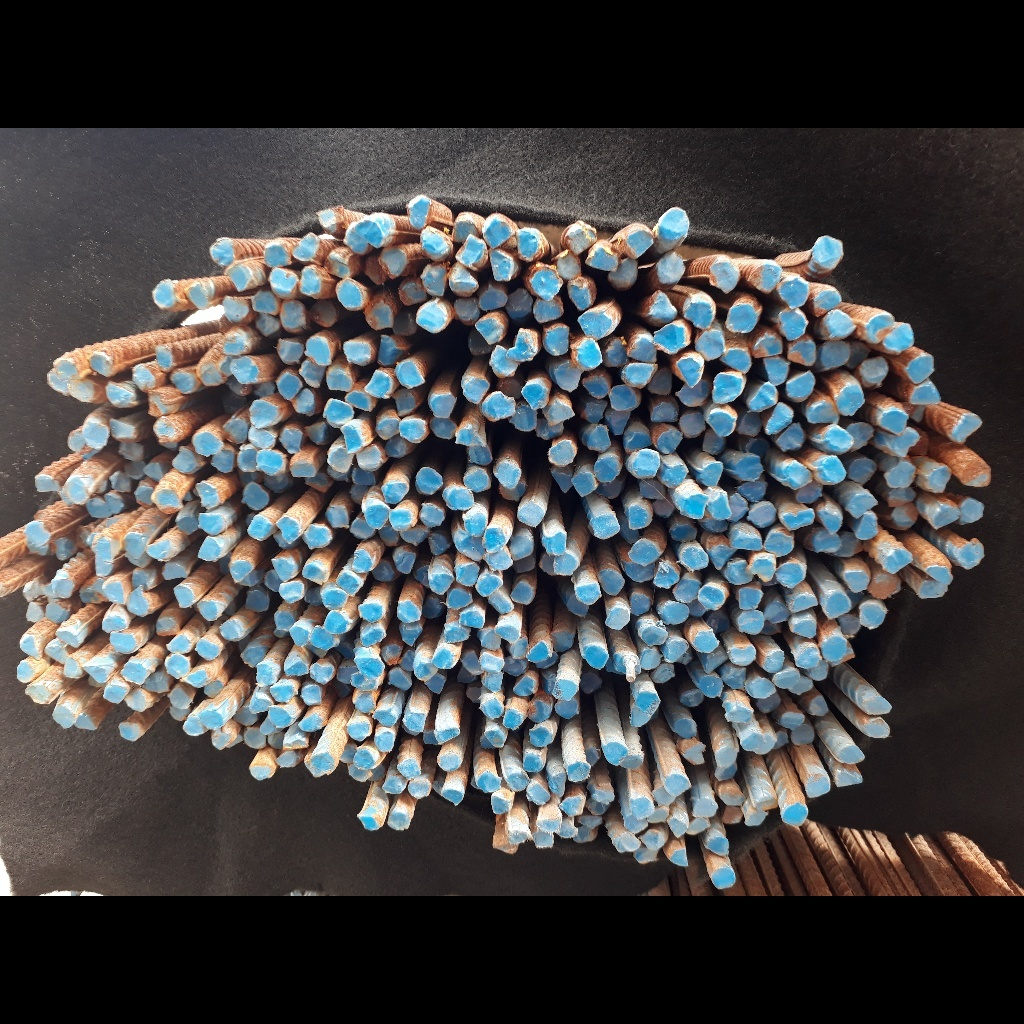dipstick: (455, 233, 488, 271), (657, 206, 690, 242), (47, 360, 80, 394), (335, 275, 365, 312), (529, 266, 562, 299), (420, 228, 452, 262), (762, 402, 795, 434), (813, 234, 844, 268), (656, 250, 686, 285), (480, 391, 515, 421), (819, 339, 852, 370), (652, 324, 685, 355), (448, 265, 479, 298), (711, 375, 745, 405), (577, 309, 612, 338), (609, 257, 638, 291), (507, 329, 536, 363), (379, 246, 408, 280), (728, 523, 763, 551), (483, 217, 513, 249), (627, 539, 661, 567), (694, 331, 725, 361), (567, 278, 597, 309), (268, 266, 298, 297), (883, 323, 915, 352), (779, 277, 808, 309), (725, 304, 757, 333), (710, 262, 739, 294), (487, 344, 516, 376), (460, 373, 489, 405), (172, 447, 206, 474), (416, 303, 446, 333), (363, 300, 393, 330), (778, 309, 807, 340), (750, 265, 781, 294), (748, 382, 779, 411), (866, 312, 894, 344), (957, 539, 985, 571), (575, 338, 603, 370), (248, 401, 280, 429), (420, 265, 447, 298), (621, 363, 656, 388), (905, 354, 934, 384), (953, 413, 982, 443), (891, 428, 920, 458), (825, 309, 855, 338), (628, 334, 657, 364), (683, 302, 714, 330), (649, 291, 677, 322), (631, 449, 659, 480), (720, 347, 752, 374), (541, 399, 575, 424), (406, 195, 431, 229), (354, 220, 383, 249), (304, 337, 333, 366), (848, 457, 878, 485), (510, 402, 538, 432), (309, 298, 337, 328), (884, 461, 915, 488), (556, 361, 583, 392), (478, 284, 509, 311), (323, 398, 354, 425), (125, 585, 152, 616), (532, 298, 564, 324), (507, 288, 533, 320), (676, 381, 709, 406), (586, 247, 619, 272), (546, 323, 571, 356), (860, 356, 889, 384), (845, 422, 873, 451), (675, 358, 704, 386), (521, 380, 549, 409), (415, 467, 443, 496), (837, 385, 864, 415), (707, 409, 737, 436), (566, 223, 596, 250), (153, 417, 183, 444), (883, 548, 914, 574), (302, 524, 333, 550), (376, 333, 401, 365), (281, 300, 306, 332), (925, 558, 953, 586), (610, 384, 638, 412), (493, 461, 521, 489), (230, 357, 258, 385), (23, 518, 51, 546), (788, 340, 817, 367), (778, 422, 805, 451), (680, 492, 709, 519), (315, 206, 344, 233), (81, 421, 108, 450), (454, 295, 480, 325), (289, 387, 315, 417), (747, 503, 778, 528), (708, 491, 733, 522), (210, 236, 235, 267), (517, 227, 541, 259), (489, 249, 513, 281), (846, 494, 879, 517), (963, 460, 991, 487), (746, 557, 774, 584), (662, 635, 689, 663), (726, 559, 753, 587), (709, 543, 737, 570), (460, 535, 488, 562), (325, 251, 353, 278), (328, 446, 356, 473), (859, 602, 885, 631), (786, 370, 815, 396), (765, 531, 794, 557), (679, 409, 705, 438), (603, 338, 629, 367), (581, 376, 610, 402), (275, 515, 301, 544), (443, 485, 473, 510), (779, 507, 813, 529), (869, 574, 900, 598), (455, 425, 486, 449), (152, 490, 183, 514), (624, 561, 656, 584), (299, 264, 322, 296), (736, 608, 763, 635), (398, 361, 425, 388), (241, 483, 268, 510), (821, 635, 847, 663), (827, 425, 853, 453), (390, 388, 416, 416), (365, 370, 391, 398), (293, 232, 319, 260), (283, 722, 309, 750), (256, 450, 284, 476), (648, 368, 673, 397), (550, 468, 575, 497), (517, 502, 546, 527), (556, 251, 581, 280), (310, 625, 339, 650), (299, 359, 324, 388), (193, 432, 222, 457), (196, 480, 221, 509), (879, 410, 909, 434), (637, 478, 667, 502), (545, 441, 575, 465), (534, 418, 566, 440), (814, 528, 841, 554), (681, 546, 707, 573), (277, 338, 304, 364), (276, 372, 302, 399), (164, 653, 191, 679), (776, 562, 804, 587), (821, 457, 846, 485), (552, 551, 580, 576), (428, 415, 456, 440), (343, 340, 371, 365), (248, 425, 276, 450), (227, 263, 252, 291), (960, 496, 984, 525), (855, 512, 879, 541), (863, 693, 892, 717), (763, 356, 787, 385), (624, 230, 653, 254), (344, 225, 368, 254), (65, 476, 89, 505), (910, 383, 940, 406), (650, 402, 680, 425), (152, 280, 175, 310), (892, 503, 918, 529), (652, 563, 678, 589), (223, 297, 249, 323), (825, 592, 852, 617), (697, 461, 724, 486), (657, 428, 684, 453), (587, 426, 612, 453), (392, 309, 417, 336), (399, 419, 426, 444), (356, 444, 381, 471), (52, 705, 79, 730), (793, 482, 825, 503), (736, 456, 764, 480), (594, 457, 618, 485), (341, 424, 364, 453), (107, 417, 136, 440), (140, 671, 169, 694), (590, 517, 620, 539), (483, 548, 513, 570), (464, 507, 486, 537), (659, 603, 690, 624), (738, 481, 769, 502), (928, 467, 953, 493), (698, 585, 724, 610), (736, 412, 762, 437), (381, 479, 407, 504), (370, 558, 396, 583), (335, 571, 361, 596), (246, 515, 272, 540), (121, 660, 147, 685), (816, 288, 840, 315), (788, 461, 812, 488), (552, 678, 579, 702), (476, 770, 503, 794), (452, 219, 479, 243), (469, 328, 493, 355), (463, 468, 490, 492), (428, 571, 455, 595), (399, 282, 426, 306), (132, 365, 156, 392), (754, 334, 782, 357), (719, 665, 747, 688), (270, 558, 298, 581), (237, 444, 260, 472), (197, 512, 225, 535), (66, 378, 94, 401), (605, 409, 630, 434), (455, 562, 480, 587), (396, 599, 421, 624), (682, 739, 706, 765), (584, 645, 610, 669), (598, 571, 624, 595), (559, 794, 585, 818), (554, 697, 580, 721), (364, 505, 390, 529), (310, 752, 334, 778), (280, 428, 304, 454), (253, 290, 279, 314), (105, 383, 131, 407), (625, 506, 652, 529), (512, 580, 535, 607), (185, 282, 208, 309), (917, 579, 948, 599), (931, 506, 959, 528), (447, 587, 475, 609), (147, 389, 169, 417), (354, 656, 383, 677), (264, 473, 293, 494), (885, 488, 915, 508), (834, 532, 858, 557), (797, 646, 822, 670), (571, 473, 596, 497), (490, 837, 520, 857), (508, 533, 533, 557), (420, 503, 444, 528), (326, 504, 350, 529), (170, 370, 195, 394), (54, 537, 79, 561), (665, 773, 691, 796), (663, 465, 689, 488), (542, 532, 568, 555), (550, 630, 576, 653), (413, 658, 439, 681), (327, 367, 353, 390), (278, 580, 304, 603), (808, 402, 835, 424), (345, 391, 372, 413), (164, 633, 191, 655), (366, 255, 385, 286), (728, 645, 756, 666), (474, 576, 503, 596), (498, 480, 527, 500), (806, 774, 830, 798), (305, 423, 329, 447), (197, 361, 221, 385), (197, 538, 221, 562), (844, 568, 869, 591), (737, 587, 762, 610), (699, 675, 724, 698), (583, 400, 606, 425), (487, 588, 510, 613), (389, 508, 414, 531), (309, 661, 334, 684), (122, 533, 145, 558), (123, 689, 148, 712), (793, 618, 819, 640), (701, 431, 727, 453), (349, 517, 375, 539), (526, 702, 553, 723), (269, 682, 296, 703), (672, 580, 700, 600), (478, 651, 506, 671), (306, 472, 334, 492), (711, 866, 735, 889), (628, 592, 652, 615), (653, 497, 676, 521), (423, 671, 446, 695), (432, 395, 456, 418), (264, 243, 288, 266), (229, 560, 252, 584), (88, 353, 112, 376), (95, 538, 119, 561), (605, 607, 630, 629), (505, 770, 530, 792), (323, 612, 348, 634), (301, 563, 326, 585), (223, 421, 248, 443), (211, 447, 233, 472), (244, 591, 269, 613), (782, 804, 808, 825), (820, 507, 841, 533), (706, 611, 732, 632), (602, 743, 628, 764), (574, 581, 600, 602), (502, 656, 528, 677), (357, 601, 383, 622), (145, 539, 171, 560), (762, 603, 789, 623), (691, 798, 718, 818), (726, 495, 746, 522), (400, 527, 427, 547), (321, 588, 348, 608), (427, 532, 450, 555), (526, 640, 550, 662), (499, 378, 523, 400), (435, 723, 459, 745), (408, 777, 432, 799), (396, 551, 418, 575), (388, 669, 412, 691), (376, 417, 400, 439), (248, 691, 272, 713), (254, 663, 276, 687), (256, 314, 280, 336), (101, 581, 123, 605), (773, 668, 798, 689), (652, 785, 677, 806), (461, 650, 482, 675), (396, 758, 421, 779), (352, 548, 373, 573), (19, 635, 40, 660), (755, 694, 781, 714), (749, 678, 775, 698), (110, 632, 136, 652), (792, 593, 819, 612), (670, 524, 697, 543), (625, 432, 652, 451), (155, 345, 174, 372), (118, 442, 145, 461), (80, 665, 107, 684), (637, 693, 660, 715), (469, 444, 492, 466), (420, 596, 442, 619), (402, 710, 425, 732), (838, 614, 862, 635), (640, 829, 664, 850), (616, 655, 640, 676), (567, 762, 591, 783), (512, 675, 536, 696), (460, 608, 484, 629), (386, 811, 410, 832), (381, 641, 402, 665), (346, 721, 370, 742), (194, 639, 218, 660), (143, 462, 171, 480), (169, 686, 193, 707), (51, 577, 75, 598), (866, 718, 891, 738), (615, 831, 640, 851), (650, 663, 675, 683), (553, 817, 578, 837), (527, 784, 552, 804), (240, 648, 265, 668), (233, 706, 258, 726), (102, 683, 127, 703), (85, 497, 110, 517), (839, 745, 865, 764), (671, 718, 697, 737), (685, 816, 711, 835), (633, 846, 659, 865), (249, 761, 275, 780), (79, 585, 105, 604), (708, 835, 730, 857), (522, 751, 544, 773), (431, 647, 453, 669), (300, 684, 322, 706), (172, 586, 194, 608), (808, 694, 829, 717), (598, 480, 621, 501), (502, 709, 525, 730), (480, 670, 503, 691), (484, 528, 505, 551), (268, 706, 291, 727), (244, 728, 267, 749), (108, 471, 131, 492), (45, 602, 68, 623), (496, 622, 520, 642), (744, 437, 769, 456), (573, 825, 598, 844), (361, 627, 386, 646), (371, 709, 396, 728), (348, 764, 373, 783), (155, 617, 180, 636), (789, 726, 815, 744), (351, 672, 377, 690), (34, 475, 60, 493), (54, 630, 80, 648), (24, 685, 50, 703), (806, 660, 827, 682), (763, 651, 785, 672), (640, 650, 661, 672), (582, 673, 603, 695), (505, 822, 527, 843), (480, 628, 501, 650), (401, 626, 423, 647), (274, 610, 295, 632), (299, 712, 322, 732), (117, 722, 140, 742), (100, 616, 127, 633), (680, 688, 704, 707), (629, 797, 653, 816), (529, 727, 553, 746), (491, 792, 510, 816), (437, 752, 461, 771), (383, 439, 407, 458), (200, 709, 224, 728), (211, 731, 235, 750), (63, 655, 82, 679), (44, 645, 68, 664), (779, 711, 804, 729), (642, 626, 667, 644), (549, 772, 567, 797), (445, 626, 470, 644), (352, 467, 377, 485), (183, 717, 208, 735), (162, 562, 187, 580), (482, 699, 503, 720), (354, 692, 375, 713), (742, 731, 764, 751), (16, 661, 36, 683), (668, 815, 687, 838), (134, 485, 153, 508), (22, 581, 45, 600), (720, 786, 744, 804), (591, 787, 615, 805), (535, 814, 559, 832), (289, 461, 316, 477), (727, 706, 752, 723), (228, 378, 253, 395), (576, 814, 604, 829), (382, 775, 403, 795), (353, 749, 374, 769), (289, 626, 309, 647), (441, 787, 463, 806), (375, 730, 394, 752), (336, 665, 358, 684), (196, 601, 218, 620), (131, 569, 150, 591), (67, 430, 86, 452), (628, 707, 651, 725), (252, 380, 275, 398), (176, 516, 199, 534), (531, 832, 555, 849), (837, 771, 862, 787), (789, 679, 814, 695), (103, 493, 123, 513), (260, 715, 281, 734), (715, 747, 738, 764), (357, 814, 380, 831), (276, 751, 299, 768), (755, 734, 774, 754), (266, 570, 285, 590), (753, 796, 780, 810), (339, 743, 357, 764), (304, 586, 322, 607), (219, 623, 240, 641), (124, 462, 145, 480), (26, 602, 44, 623), (625, 814, 647, 831), (536, 652, 558, 669), (704, 517, 727, 533), (414, 565, 430, 588), (184, 671, 207, 687), (723, 805, 742, 824), (333, 681, 353, 699), (745, 809, 766, 826), (74, 714, 95, 731), (400, 649, 416, 671), (285, 661, 308, 676), (540, 557, 557, 577), (275, 532, 295, 549), (219, 354, 236, 374), (621, 752, 642, 768), (513, 557, 534, 573), (327, 468, 351, 482), (93, 559, 114, 575), (646, 808, 668, 823), (240, 570, 262, 585), (687, 599, 705, 617), (487, 731, 505, 749), (350, 485, 368, 503), (267, 730, 285, 748), (670, 848, 689, 865), (365, 763, 384, 780), (714, 765, 738, 778), (26, 542, 50, 555), (762, 620, 784, 634), (586, 801, 608, 815), (169, 706, 191, 720), (582, 748, 599, 766), (204, 680, 223, 696), (457, 667, 476, 682), (676, 647, 692, 664), (226, 733, 243, 749), (773, 730, 788, 748), (422, 731, 440, 746), (128, 556, 152, 567), (339, 643, 354, 659), (481, 738, 496, 752), (467, 687, 480, 703)
